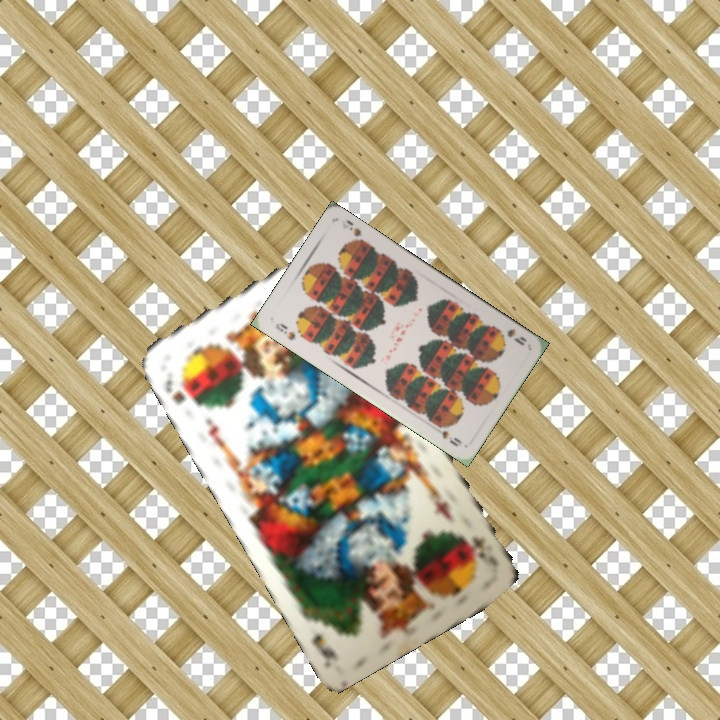S9: (492, 323, 530, 348), (271, 319, 298, 343)
SK: (160, 370, 200, 409), (457, 527, 489, 565)
